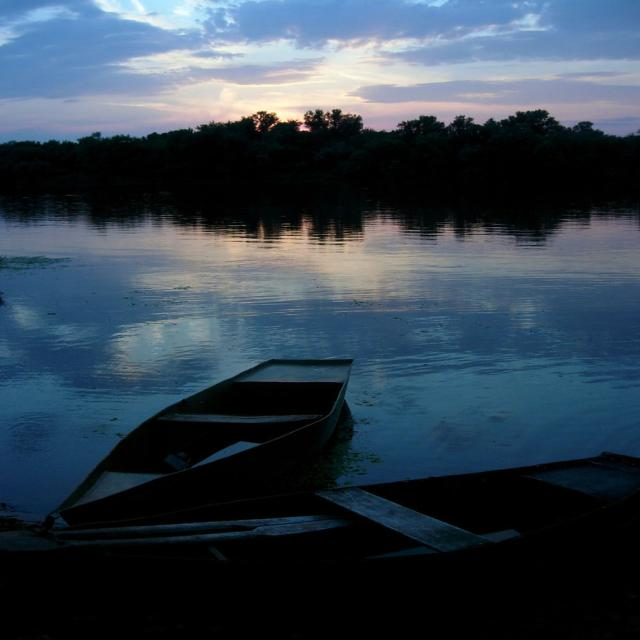Boat: (45, 324, 393, 546)
